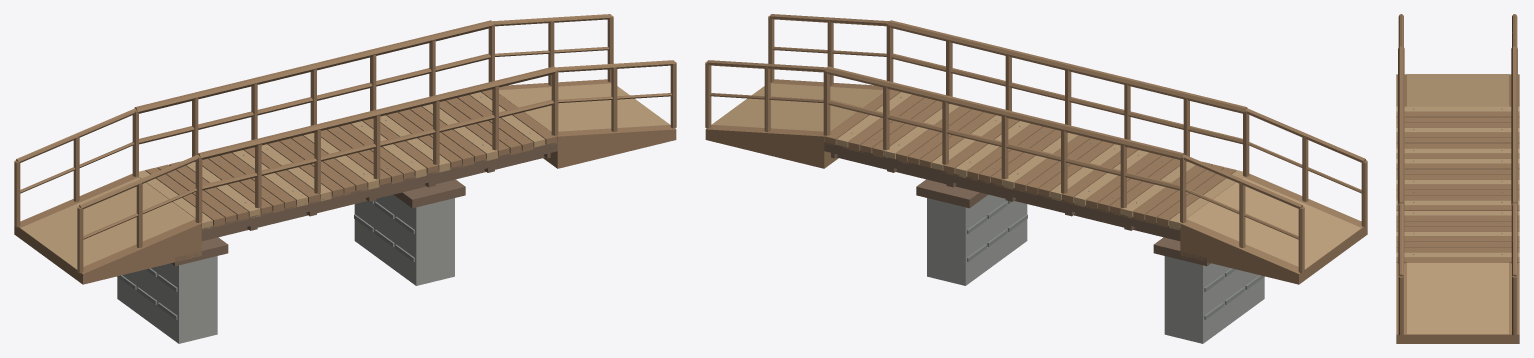
Rendered from Assembly_RusticBridge_6m_Span.fbx.
3 renders of one model, left to right at view 1: azimuth 30°, elevation 25°; view 2: azimuth 150°, elevation 25°; view 3: azimuth 270°, elevation 25°, orthographic. The views are drawn at different scales.
Parts seen in each view (by area): view 1: Assembly_RusticBridge_6m_Span__00_Bridge_Rustic_StartRamp_2m, Assembly_RusticBridge_6m_Span__01_Bridge_Rustic_Deck_2m, Assembly_RusticBridge_6m_Span__03_Bridge_Rustic_Deck_2m, Assembly_RusticBridge_6m_Span__02_Bridge_Rustic_Deck_2m, Assembly_RusticBridge_6m_Span__04_Bridge_Rustic_EndRamp_2m, Assembly_RusticBridge_6m_Span__06_Bridge_Rustic_Pier, Assembly_RusticBridge_6m_Span__05_Bridge_Rustic_Pier; view 2: Assembly_RusticBridge_6m_Span__00_Bridge_Rustic_StartRamp_2m, Assembly_RusticBridge_6m_Span__01_Bridge_Rustic_Deck_2m, Assembly_RusticBridge_6m_Span__03_Bridge_Rustic_Deck_2m, Assembly_RusticBridge_6m_Span__02_Bridge_Rustic_Deck_2m, Assembly_RusticBridge_6m_Span__04_Bridge_Rustic_EndRamp_2m, Assembly_RusticBridge_6m_Span__06_Bridge_Rustic_Pier, Assembly_RusticBridge_6m_Span__05_Bridge_Rustic_Pier; view 3: Assembly_RusticBridge_6m_Span__04_Bridge_Rustic_EndRamp_2m, Assembly_RusticBridge_6m_Span__03_Bridge_Rustic_Deck_2m, Assembly_RusticBridge_6m_Span__02_Bridge_Rustic_Deck_2m, Assembly_RusticBridge_6m_Span__01_Bridge_Rustic_Deck_2m, Assembly_RusticBridge_6m_Span__00_Bridge_Rustic_StartRamp_2m.
Boxes of the visible parts, x1=… form: Assembly_RusticBridge_6m_Span__00_Bridge_Rustic_StartRamp_2m: x1=14, y1=108, x2=201, y2=284; Assembly_RusticBridge_6m_Span__01_Bridge_Rustic_Deck_2m: x1=132, y1=78, x2=320, y2=241; Assembly_RusticBridge_6m_Span__03_Bridge_Rustic_Deck_2m: x1=370, y1=20, x2=558, y2=187; Assembly_RusticBridge_6m_Span__02_Bridge_Rustic_Deck_2m: x1=251, y1=49, x2=439, y2=215; Assembly_RusticBridge_6m_Span__04_Bridge_Rustic_EndRamp_2m: x1=493, y1=14, x2=676, y2=168; Assembly_RusticBridge_6m_Span__06_Bridge_Rustic_Pier: x1=354, y1=179, x2=465, y2=285; Assembly_RusticBridge_6m_Span__05_Bridge_Rustic_Pier: x1=117, y1=237, x2=228, y2=343; Assembly_RusticBridge_6m_Span__00_Bridge_Rustic_StartRamp_2m: x1=1180, y1=108, x2=1367, y2=284; Assembly_RusticBridge_6m_Span__01_Bridge_Rustic_Deck_2m: x1=1061, y1=78, x2=1249, y2=241; Assembly_RusticBridge_6m_Span__03_Bridge_Rustic_Deck_2m: x1=823, y1=20, x2=1011, y2=187; Assembly_RusticBridge_6m_Span__02_Bridge_Rustic_Deck_2m: x1=942, y1=49, x2=1130, y2=212; Assembly_RusticBridge_6m_Span__04_Bridge_Rustic_EndRamp_2m: x1=705, y1=14, x2=889, y2=168; Assembly_RusticBridge_6m_Span__06_Bridge_Rustic_Pier: x1=916, y1=179, x2=1027, y2=285; Assembly_RusticBridge_6m_Span__05_Bridge_Rustic_Pier: x1=1153, y1=237, x2=1264, y2=343; Assembly_RusticBridge_6m_Span__04_Bridge_Rustic_EndRamp_2m: x1=1396, y1=203, x2=1519, y2=343; Assembly_RusticBridge_6m_Span__03_Bridge_Rustic_Deck_2m: x1=1396, y1=150, x2=1519, y2=263; Assembly_RusticBridge_6m_Span__02_Bridge_Rustic_Deck_2m: x1=1396, y1=98, x2=1519, y2=210; Assembly_RusticBridge_6m_Span__01_Bridge_Rustic_Deck_2m: x1=1396, y1=46, x2=1519, y2=158; Assembly_RusticBridge_6m_Span__00_Bridge_Rustic_StartRamp_2m: x1=1396, y1=14, x2=1519, y2=106.
Size of the model in its own units: 1009 by 299 by 200.
